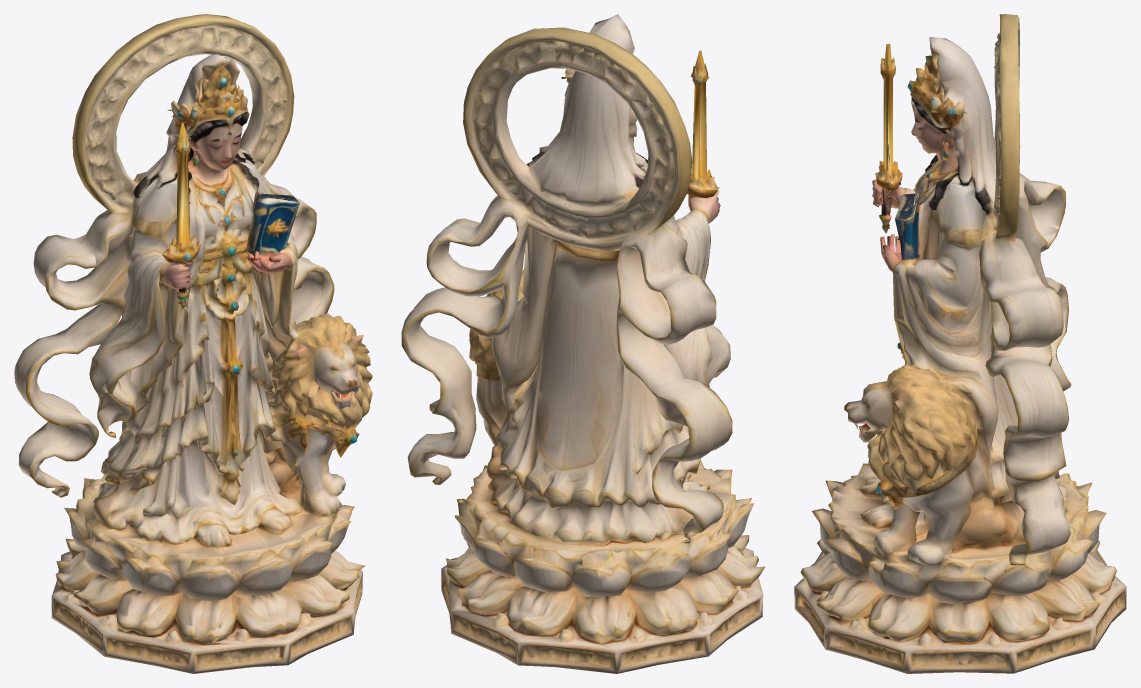
The picture shows the model from 3 angles, left to right: view 1: azimuth 30°, elevation 25°; view 2: azimuth 150°, elevation 25°; view 3: azimuth 270°, elevation 25°; orthographic projection. The views are drawn at different scales.
Visible parts, largest first — view 1: owner-collection20-10; view 2: owner-collection20-10; view 3: owner-collection20-10.
Boxes of the visible parts, x1=… form: owner-collection20-10: x1=14, y1=14, x2=372, y2=673; owner-collection20-10: x1=401, y1=14, x2=764, y2=673; owner-collection20-10: x1=794, y1=14, x2=1126, y2=673.
Size of the model in its own units: 0.5697 by 0.9992 by 0.5178.
1 material, 1 textured.
